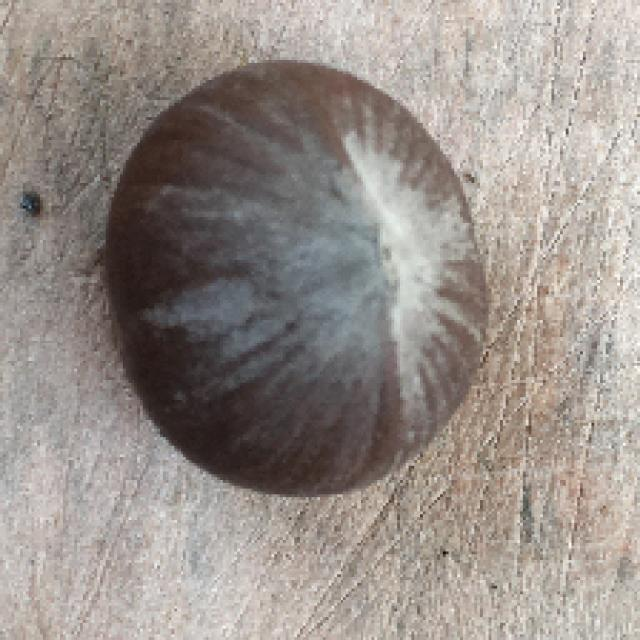damagedHazelnut: (99, 50, 490, 499)
